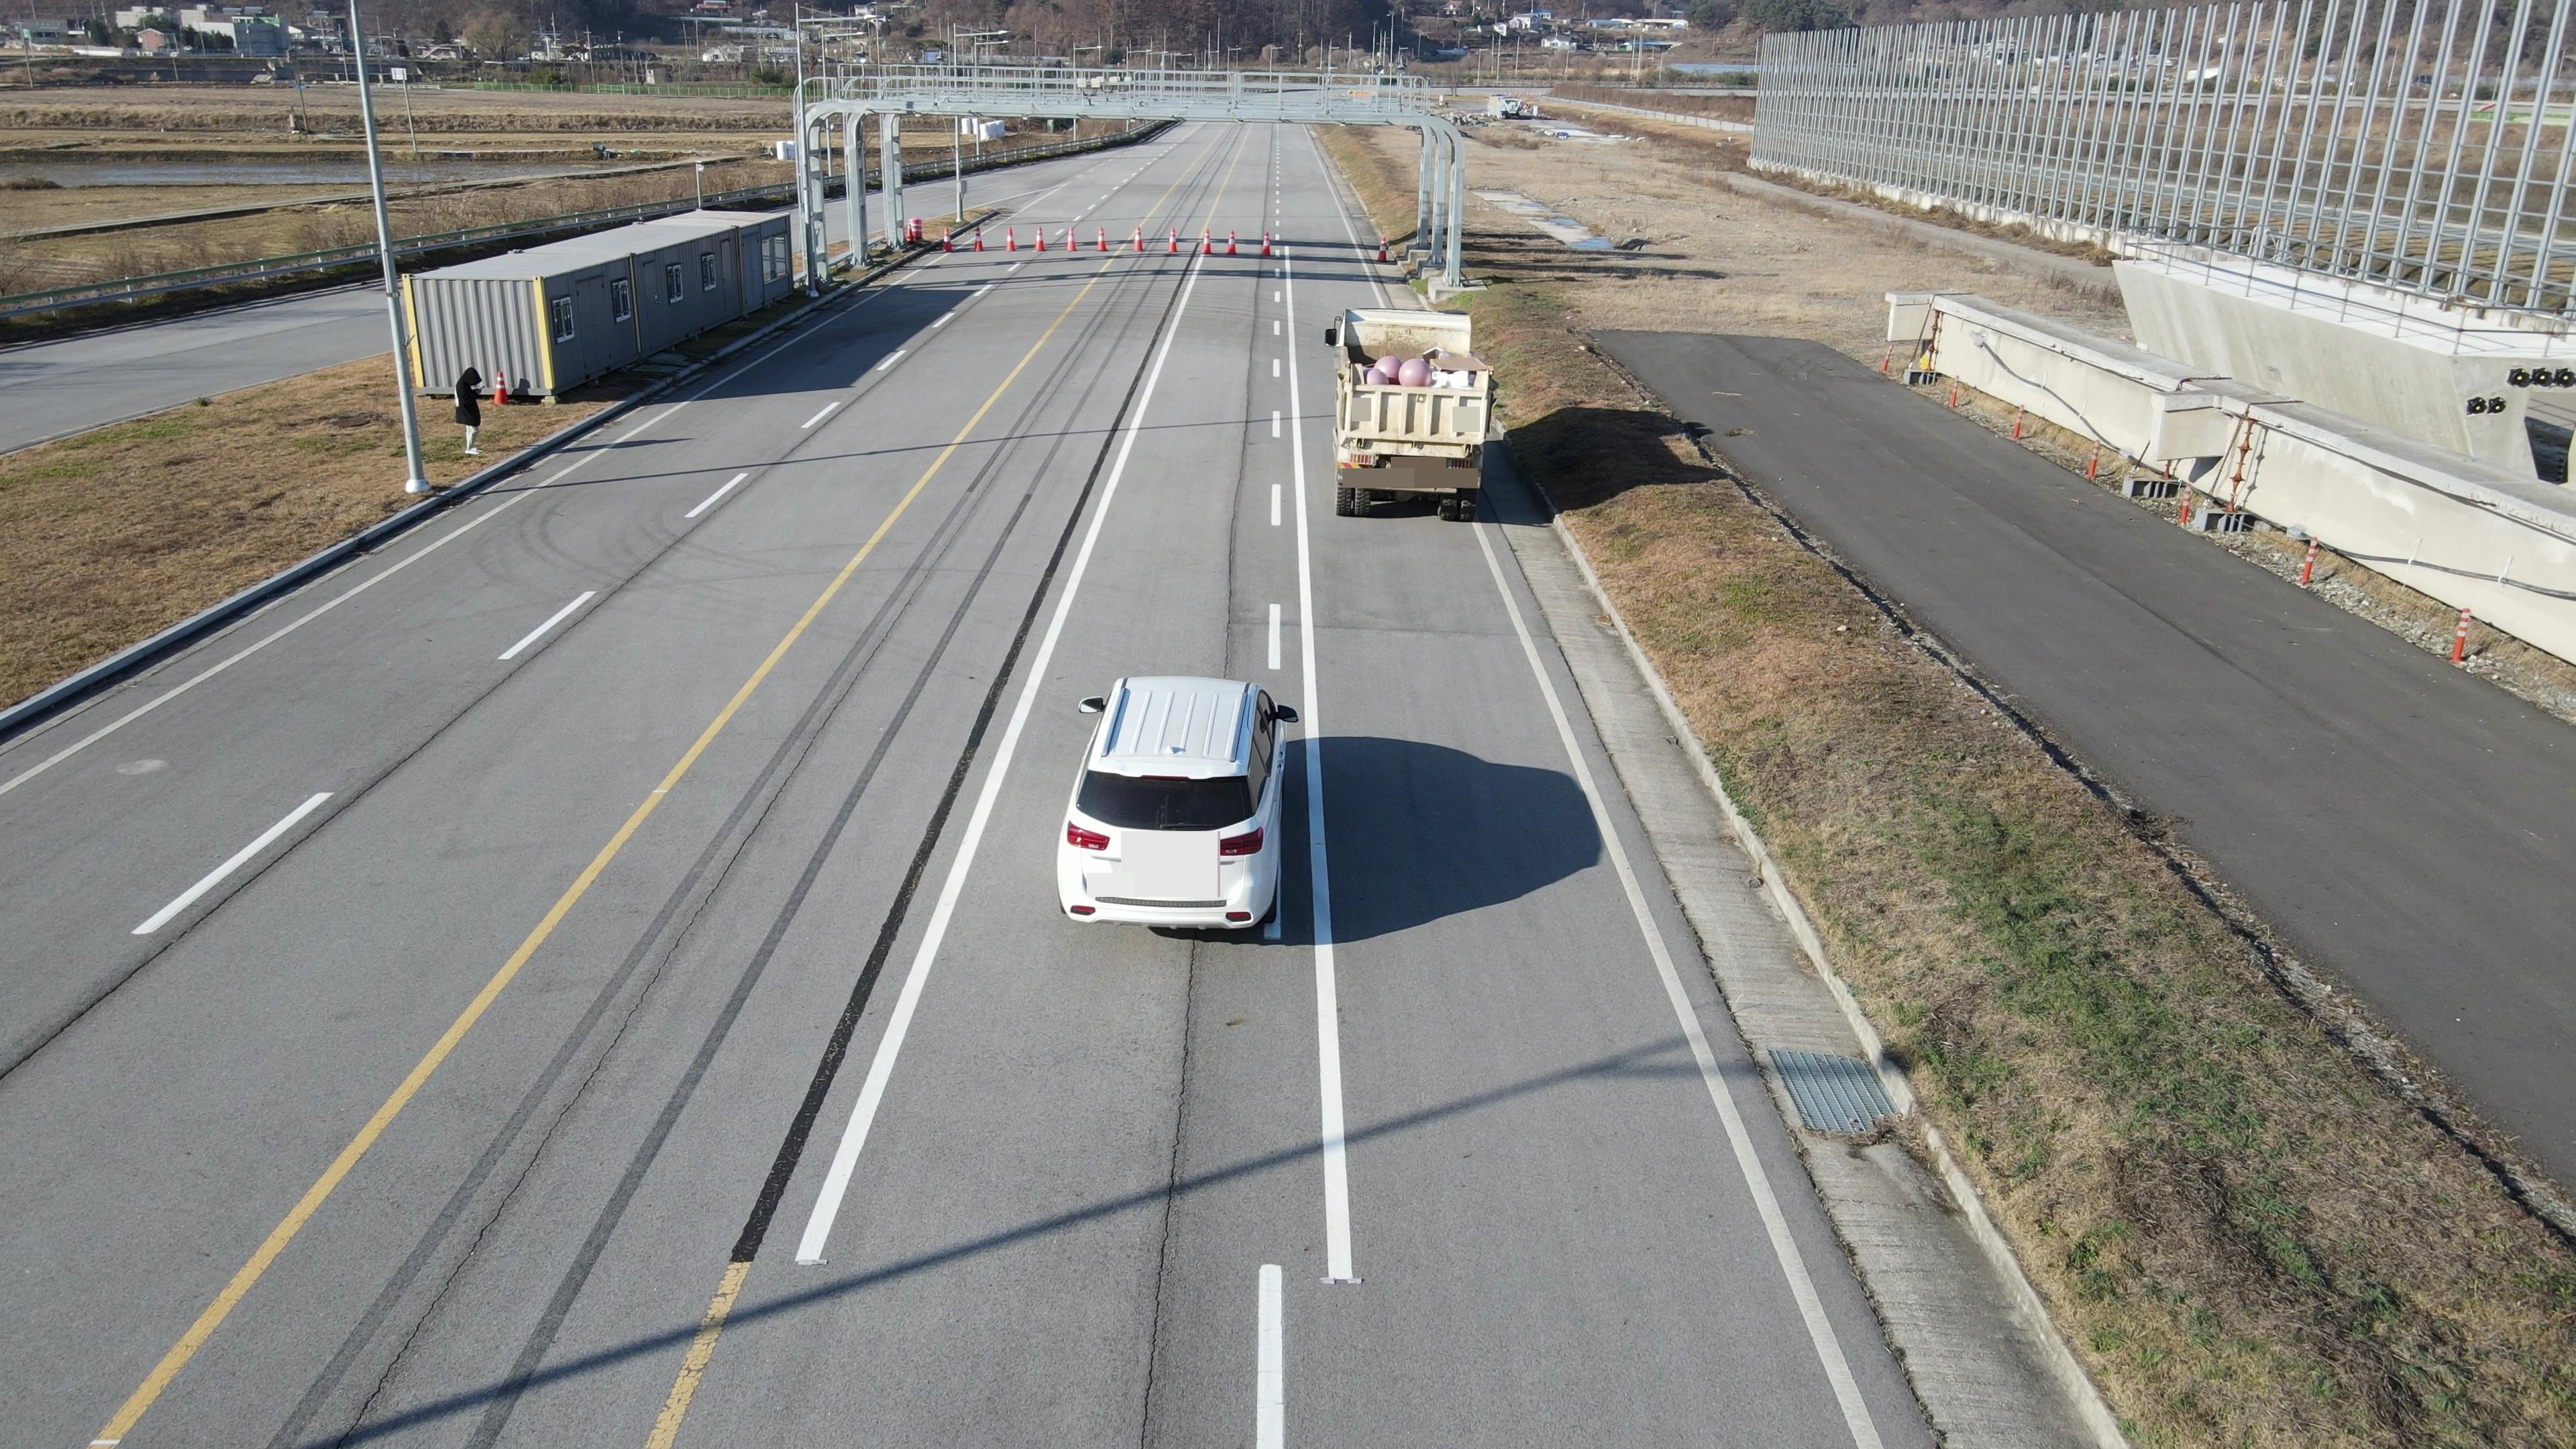불법차량: (1323, 306, 1500, 522)
